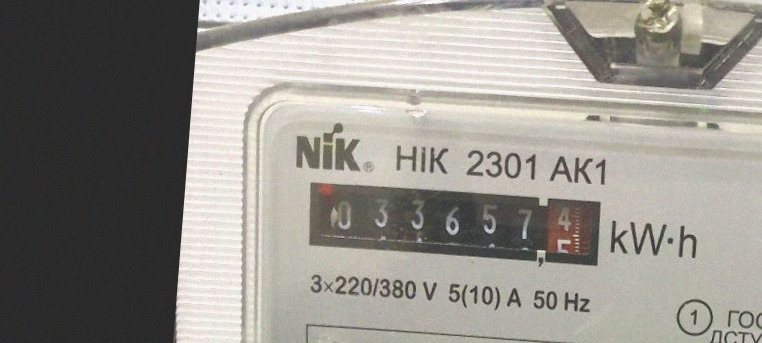0: (332, 196, 356, 234)
3: (371, 195, 392, 231), (407, 196, 427, 233)
4: (554, 203, 575, 234)
5: (477, 200, 501, 237)
6: (440, 202, 463, 238)
7: (513, 205, 534, 242)
screen: (293, 171, 611, 277)
